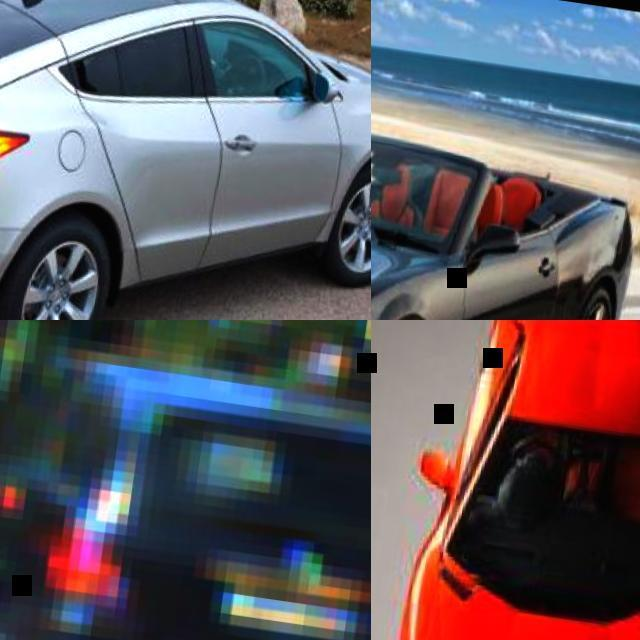car: (4, 0, 364, 310)
